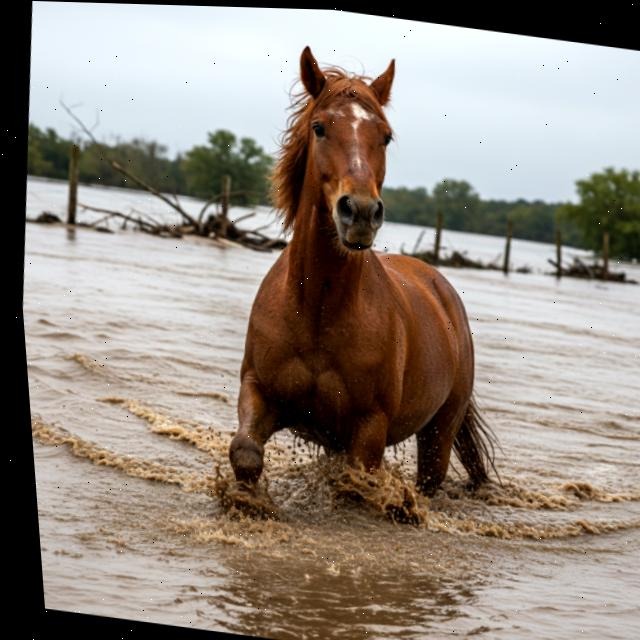horse: (187, 9, 556, 567)
